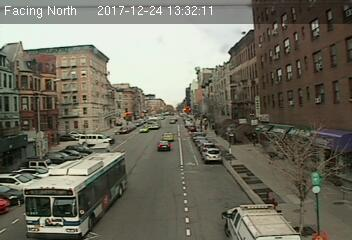bus: (19, 151, 131, 240)
car: (203, 148, 221, 161), (158, 141, 171, 151)
truck: (220, 202, 296, 240)
